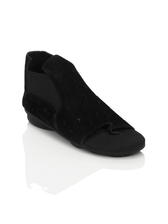shoes: (20, 51, 149, 160)
